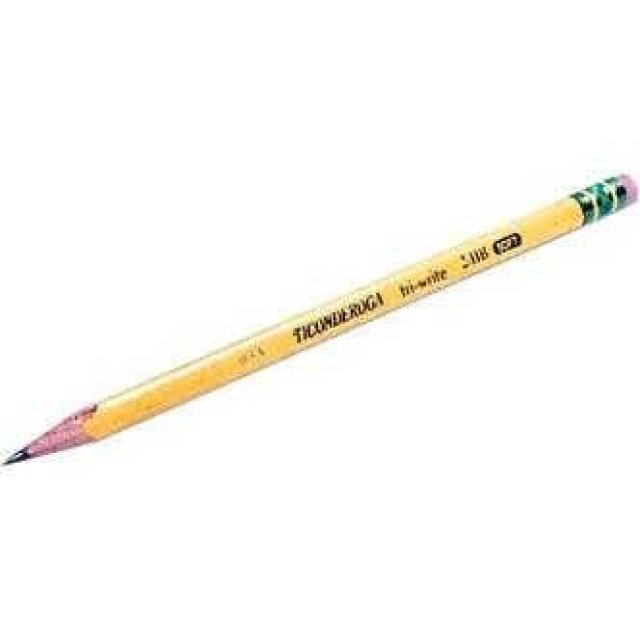pencil: (0, 157, 638, 486)
